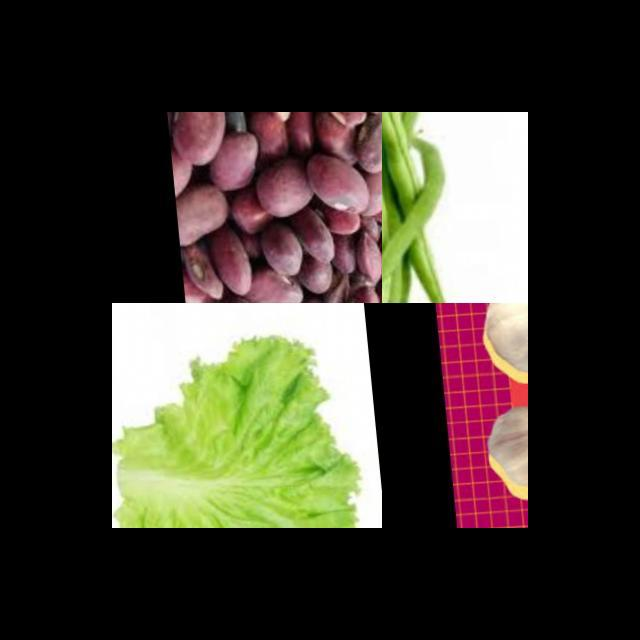garlic: (469, 399, 528, 509), (473, 303, 528, 388)
